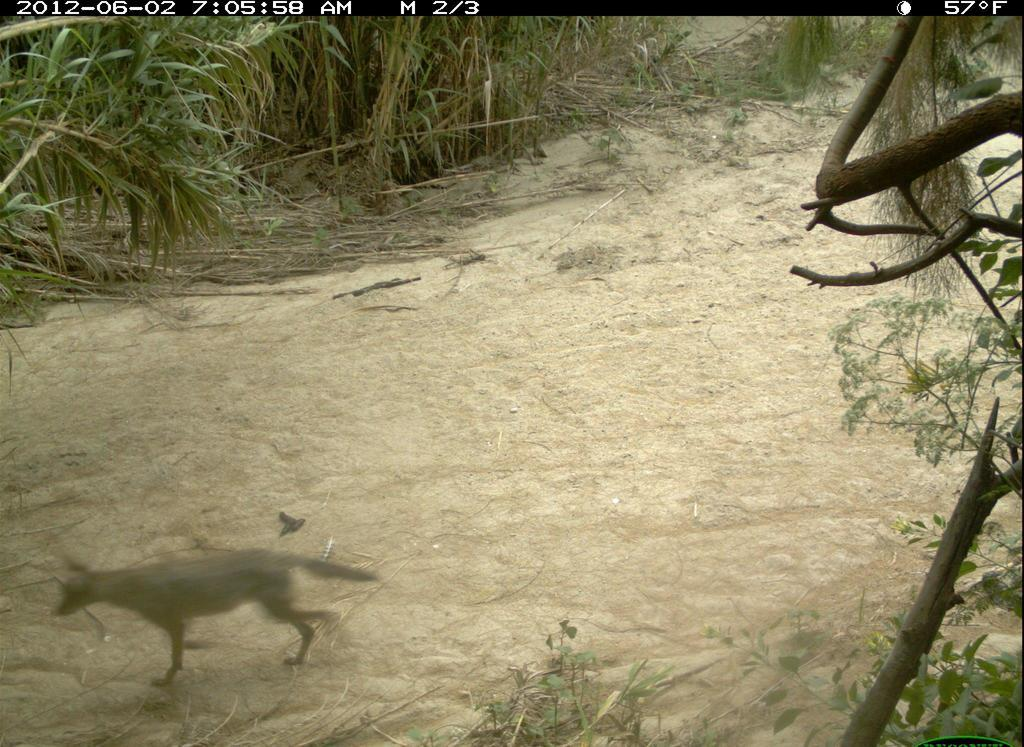coyote: (48, 539, 388, 702)
